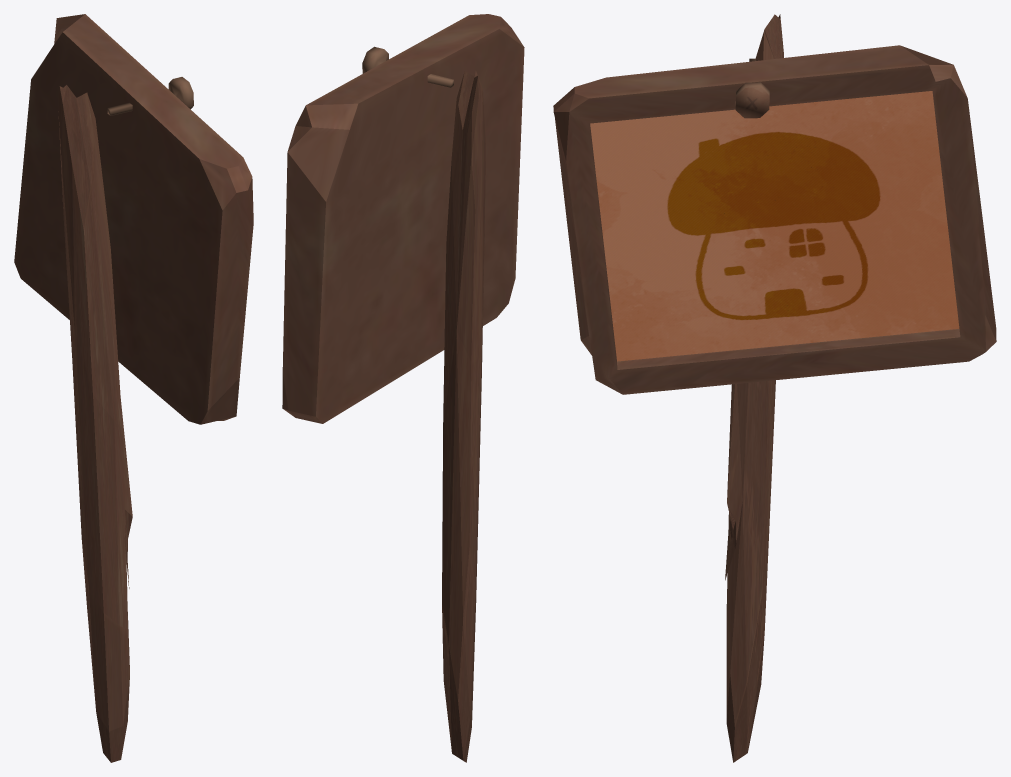
Rendered from Billboard_house.fbx.
3 renders of one model, left to right at view 1: azimuth 30°, elevation 25°; view 2: azimuth 150°, elevation 25°; view 3: azimuth 270°, elevation 25°, orthographic. The views are drawn at different scales.
Visible parts, largest first — view 1: Billboard003.001, Stick003, Pin003; view 2: Billboard003.001, Stick003, Pin003; view 3: Billboard003.001, Stick003, Pin003.
Part boxes in pixels (left/top/right/bottom): Billboard003.001: left=14, top=14, right=253, bottom=424; Stick003: left=58, top=85, right=132, bottom=762; Pin003: left=107, top=77, right=193, bottom=115; Billboard003.001: left=282, top=14, right=524, bottom=423; Stick003: left=442, top=71, right=485, bottom=762; Pin003: left=362, top=46, right=453, bottom=87; Billboard003.001: left=553, top=45, right=996, bottom=394; Stick003: left=725, top=14, right=783, bottom=762; Pin003: left=735, top=58, right=769, bottom=118.
Size of the model in its own units: 48.93 by 273 by 150.
Materials: 1 (1 with a texture image).
